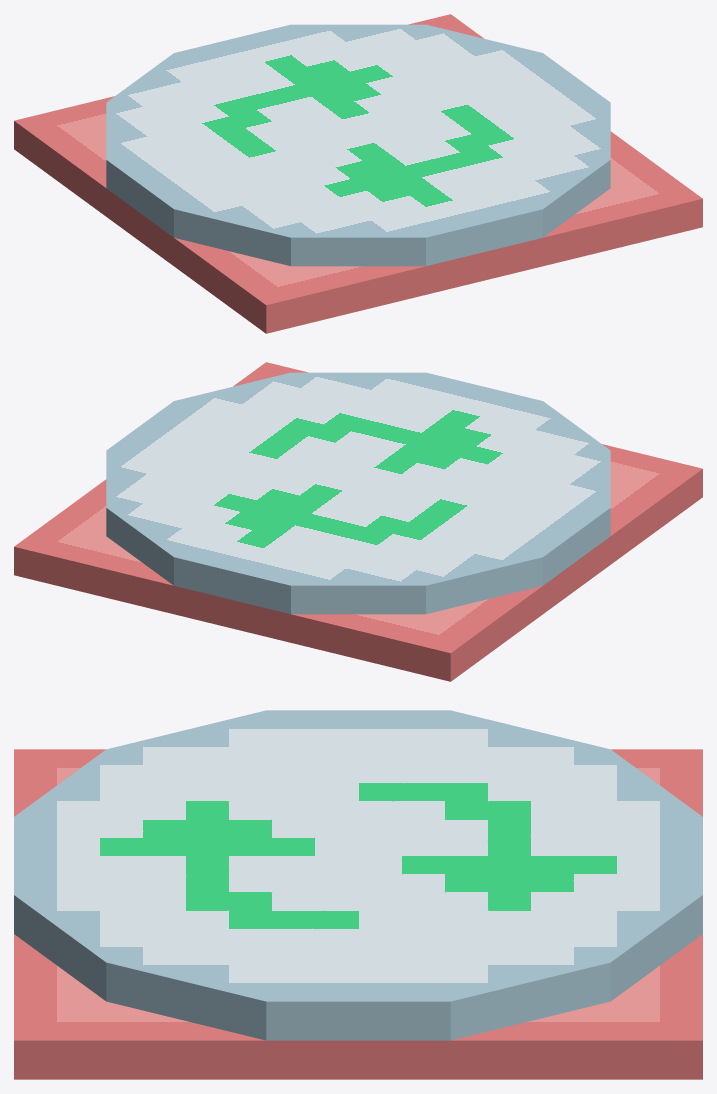
File: RotationPad 1.fbx
The picture shows the model from 3 angles, top to bottom: view 1: azimuth 30°, elevation 25°; view 2: azimuth 150°, elevation 25°; view 3: azimuth 270°, elevation 25°; orthographic projection. The views are drawn at different scales.
Parts seen in each view (by area): view 1: cylinder, cube; view 2: cylinder, cube; view 3: cylinder, cube.
Part boxes in pixels (x1,y1,x2,y2): cylinder: (106,24,610,266); cube: (14,14,702,333); cylinder: (106,372,610,614); cube: (14,362,702,681); cylinder: (14,710,702,1040); cube: (14,749,702,1079).
Size of the model in its own units: 100 by 12.5 by 100.
Materials: 1 (1 with a texture image).
